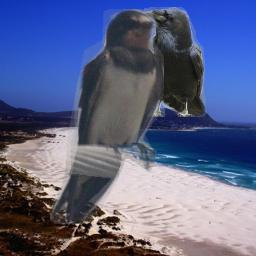Crow: (141, 7, 206, 117)
Swallow: (50, 9, 164, 224)
